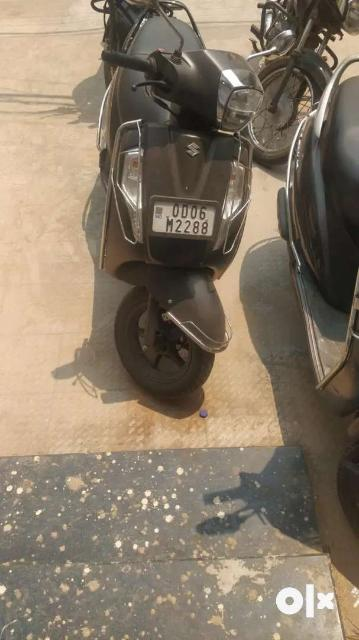Indian_Number_Plate: (150, 197, 219, 237)
